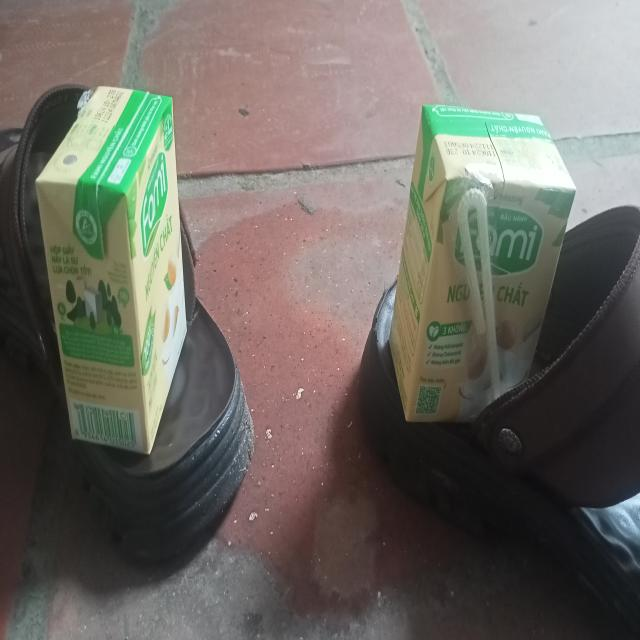Fami: (388, 104, 577, 430), (34, 83, 188, 462)
